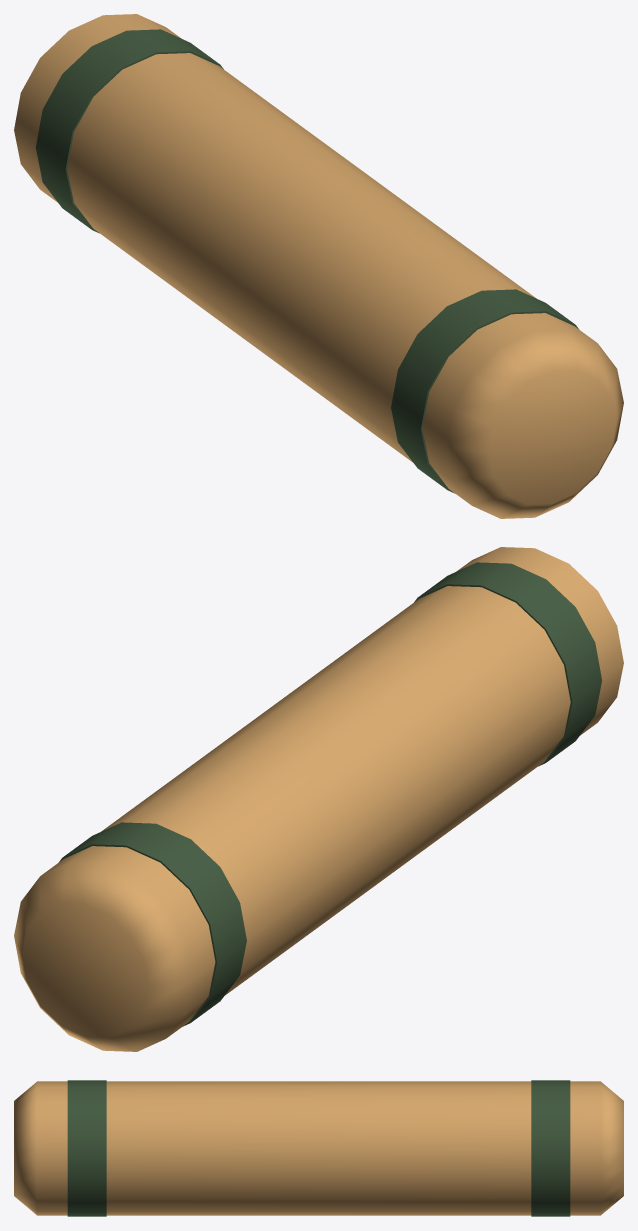
File: bastone-molkky.glb
3 renders of one model, top to bottom at view 1: azimuth 30°, elevation 25°; view 2: azimuth 150°, elevation 25°; view 3: azimuth 270°, elevation 25°, orthographic. The views are drawn at different scales.
Visible parts, largest first — view 1: bastone.molkky; view 2: bastone.molkky; view 3: bastone.molkky.
Boxes of the visible parts, x1,y1,x2,y2 form: bastone.molkky: [14, 14, 623, 518]; bastone.molkky: [14, 547, 623, 1051]; bastone.molkky: [14, 1080, 623, 1216].
Bounding box in the file's own units: 0.112 × 0.112 × 0.5.
